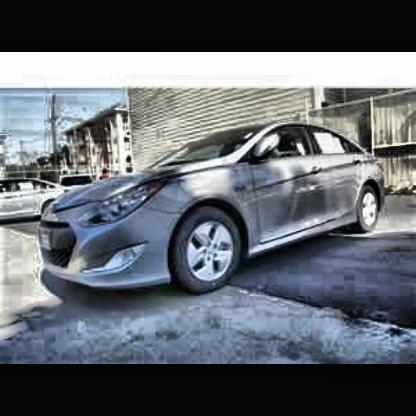Hyundai Sonata Hybrid Sedan 2012: (39, 119, 388, 295)
